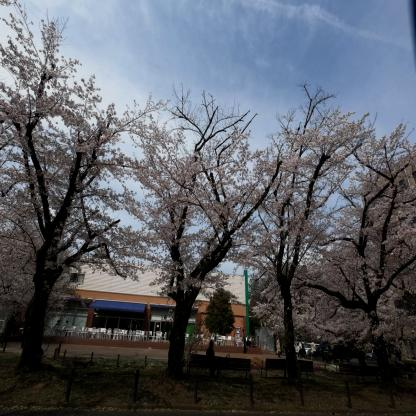Someiyoshino: (0, 0, 144, 372), (117, 99, 267, 342), (244, 92, 368, 374), (320, 107, 416, 387)
